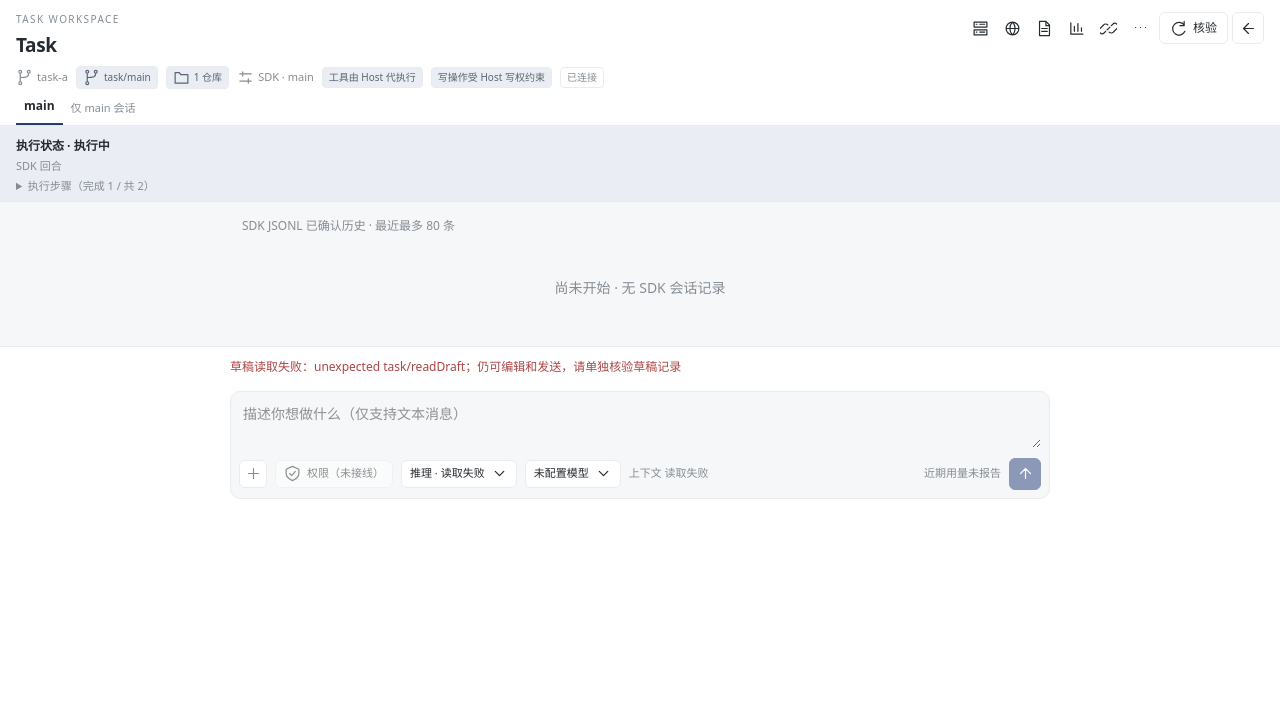
it: #24 desktop task page execution state › issues only the read op, bounds its reads by attempt-phase transitions and keeps the existing stop button
The width and height of the screenshot is (1280, 720).
Check: the text "执行状态 · 执行中" is shown, box [16, 136, 110, 154]
Type "hello" into the text box labelled "消息" at (640, 424), box [239, 400, 1041, 448]
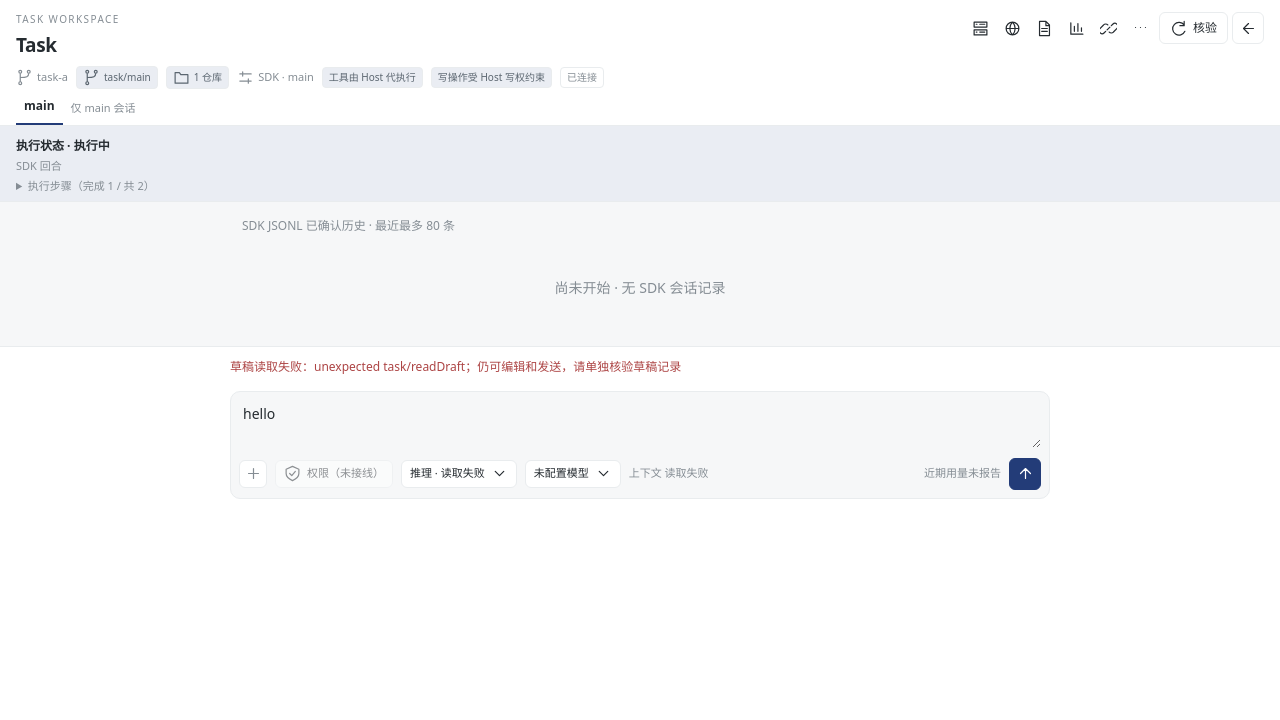
Click the button named "发送" at (1025, 474), box [1009, 458, 1041, 490]
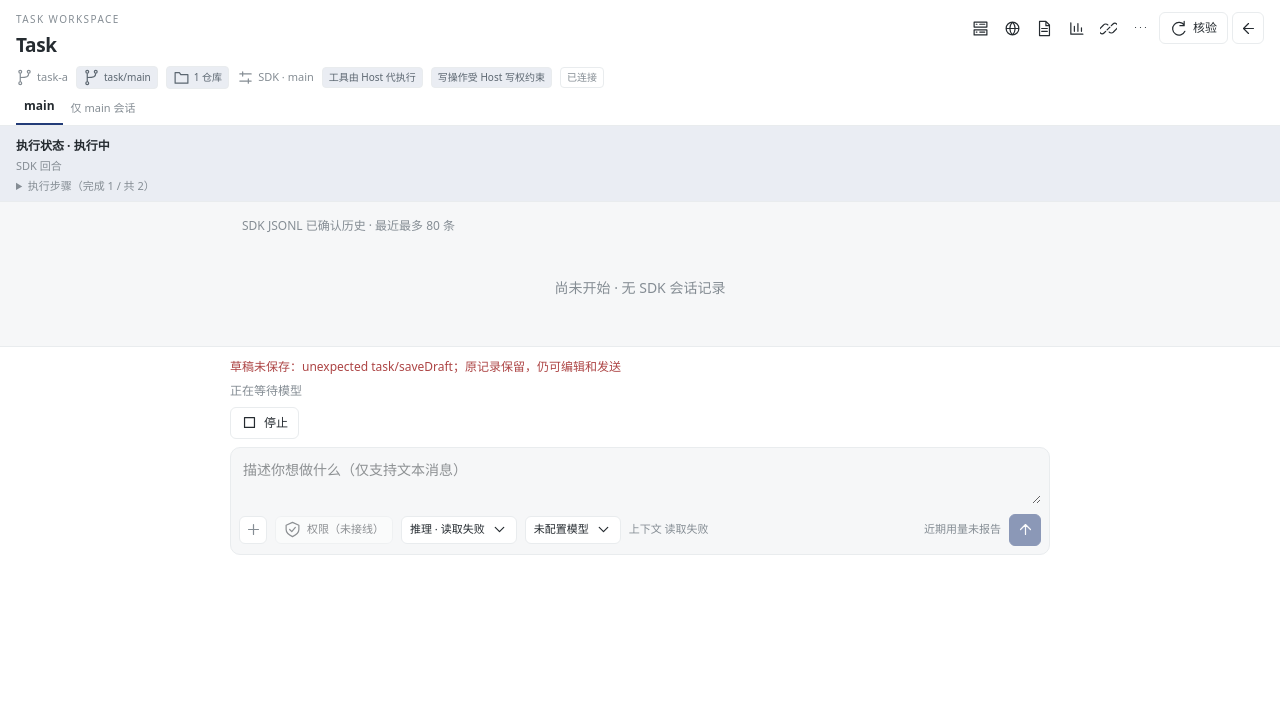
Check: the button "停止" is shown
Check: the number of buttons "停止" is 1
Click the button "停止" at (264, 422), box [230, 406, 299, 438]
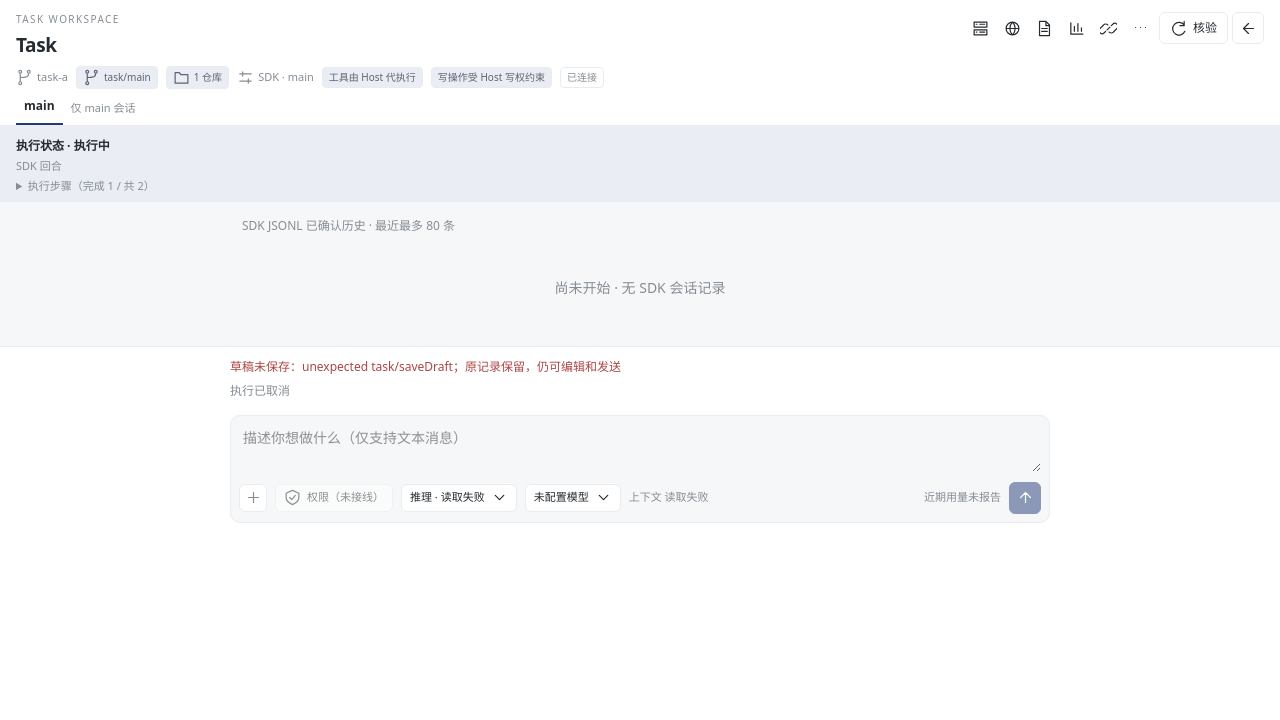
Check: the text "执行已取消" is shown, box [230, 382, 290, 398]
